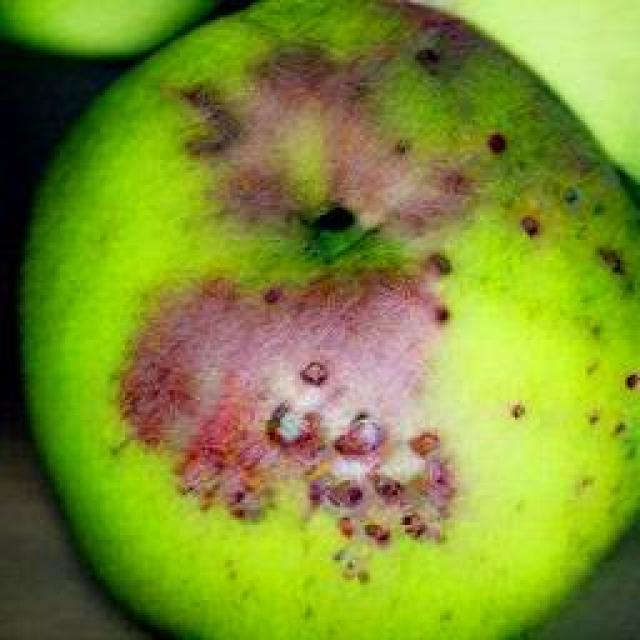defective: (15, 0, 638, 638)
